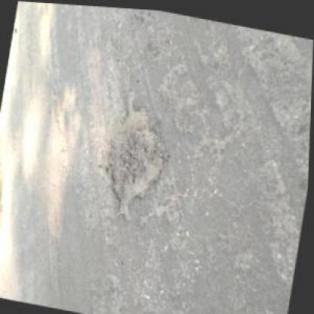Hueco: (96, 84, 178, 226)
